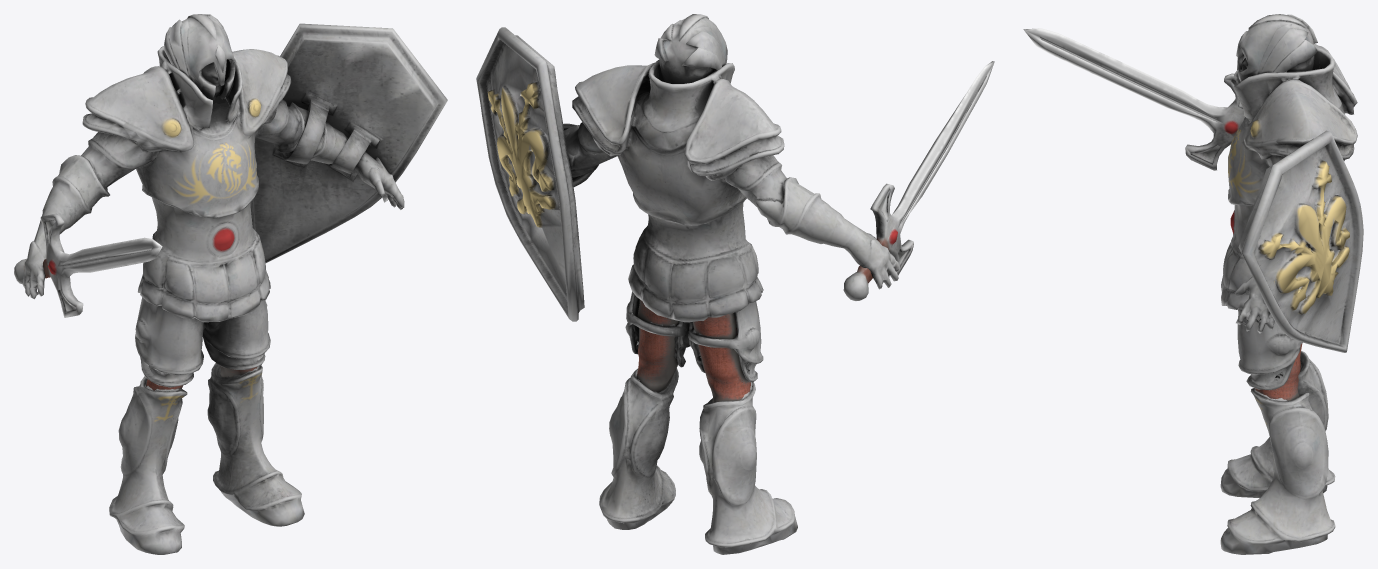
Rendered from armor.gltf.
The picture shows the model from 3 angles, left to right: view 1: azimuth 30°, elevation 25°; view 2: azimuth 150°, elevation 25°; view 3: azimuth 270°, elevation 25°; orthographic projection.
Parts seen in each view (by area): view 1: Group61487, Group61487.001; view 2: Group61487, Group61487.001; view 3: Group61487, Group61487.001.
Part boxes in pixels (x1=…): Group61487: x1=22, y1=14, x2=447, y2=554; Group61487.001: x1=14, y1=213, x2=162, y2=317; Group61487: x1=476, y1=14, x2=899, y2=554; Group61487.001: x1=843, y1=61, x2=994, y2=300; Group61487: x1=1220, y1=14, x2=1363, y2=554; Group61487.001: x1=1023, y1=28, x2=1244, y2=170.
Bounding box in the file's own units: 4.82 × 5.59 × 3.42.
1 material, 1 textured.
